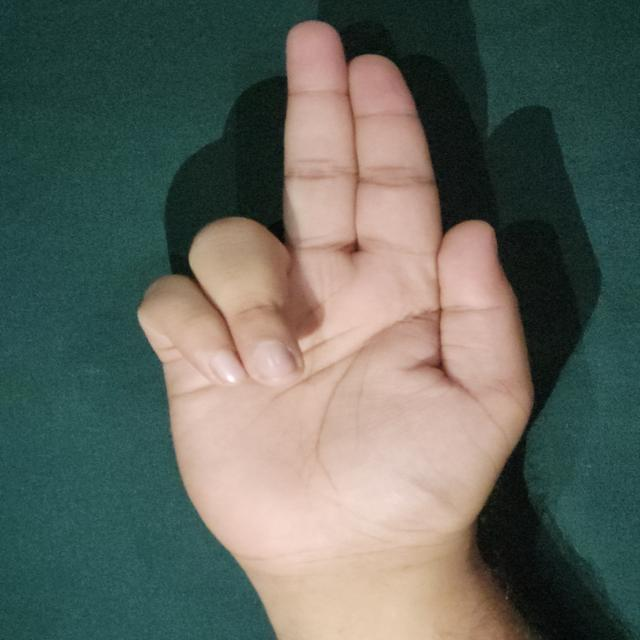ٹ: (125, 11, 568, 614)
